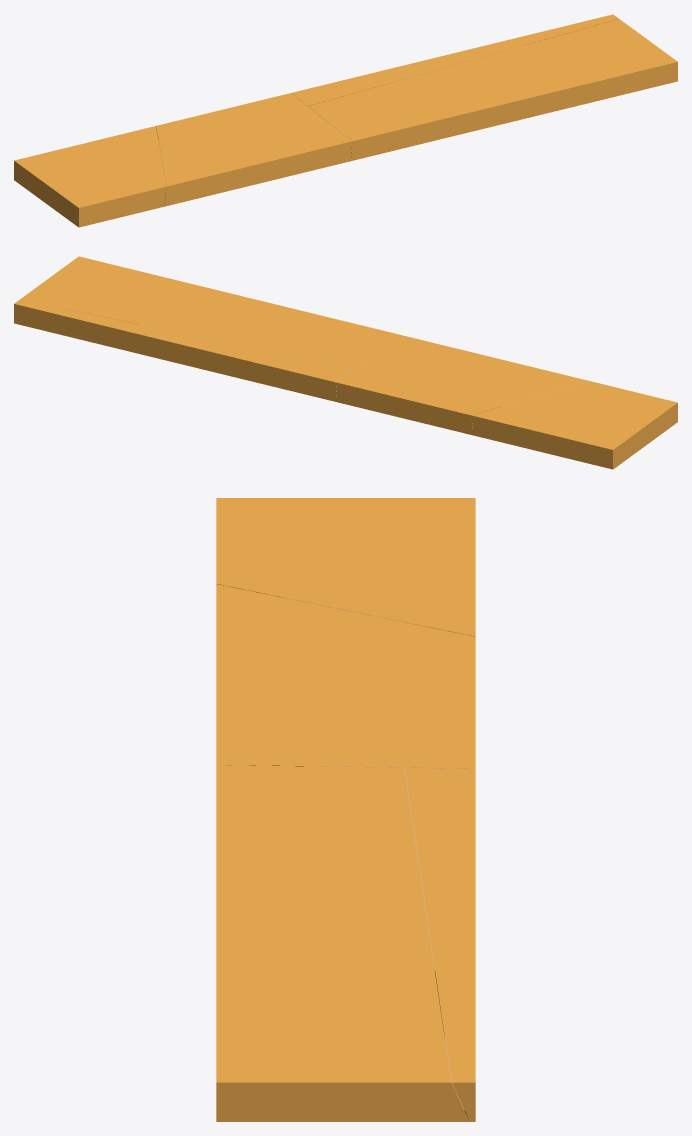
File: Single_Shelf_DEST.fbx
The picture shows the model from 3 angles, top to bottom: view 1: azimuth 30°, elevation 25°; view 2: azimuth 150°, elevation 25°; view 3: azimuth 270°, elevation 25°; orthographic projection. The views are drawn at different scales.
Visible parts, largest first — view 1: model:mesh1773481015_cell.002_cell, model:mesh1773481015_cell.001_cell.001, model:mesh1773481015_cell.001_cell, model:mesh1773481015_cell.002_cell.001; view 2: model:mesh1773481015_cell.002_cell, model:mesh1773481015_cell.001_cell.001, model:mesh1773481015_cell.001_cell, model:mesh1773481015_cell.002_cell.001; view 3: model:mesh1773481015_cell.002_cell, model:mesh1773481015_cell.001_cell.001, model:mesh1773481015_cell.001_cell, model:mesh1773481015_cell.002_cell.001.
Boxes of the visible parts, x1,y1,x2,y2 form: model:mesh1773481015_cell.002_cell: (308, 19, 677, 160); model:mesh1773481015_cell.001_cell.001: (156, 93, 352, 206); model:mesh1773481015_cell.001_cell: (14, 126, 166, 227); model:mesh1773481015_cell.002_cell.001: (292, 14, 618, 105); model:mesh1773481015_cell.002_cell: (20, 256, 403, 369); model:mesh1773481015_cell.001_cell.001: (336, 336, 589, 435); model:mesh1773481015_cell.001_cell: (471, 381, 677, 469); model:mesh1773481015_cell.002_cell.001: (14, 299, 353, 401); model:mesh1773481015_cell.002_cell: (216, 765, 469, 1121); model:mesh1773481015_cell.001_cell.001: (216, 584, 475, 768); model:mesh1773481015_cell.001_cell: (216, 498, 475, 636); model:mesh1773481015_cell.002_cell.001: (405, 767, 475, 1121).
Bounding box in the file's own units: 8.13 × 0.254 × 1.52.
